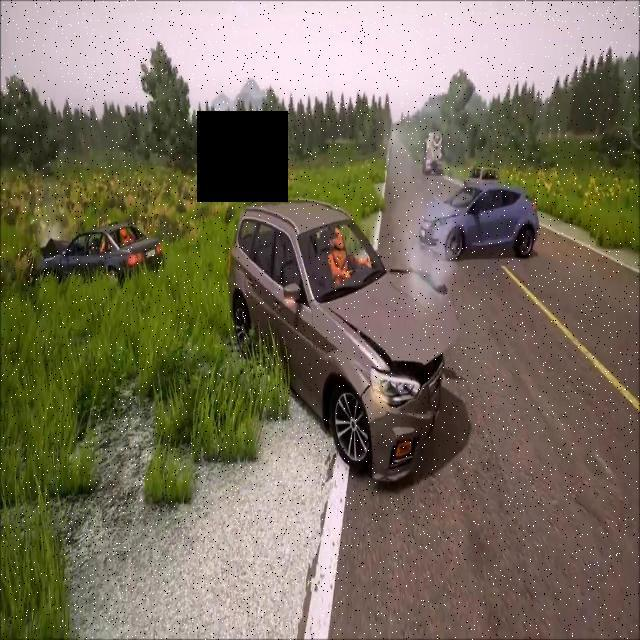moderate: (224, 191, 465, 493)
